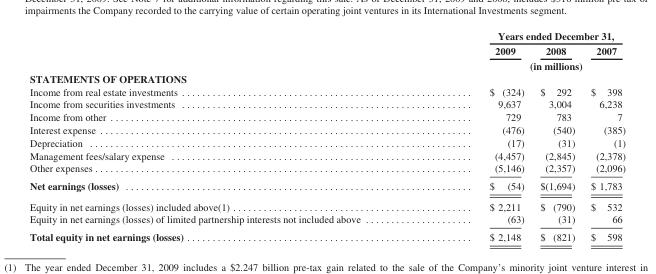table: (29, 29, 625, 242)
table column: (29, 29, 424, 242), (424, 29, 531, 242), (531, 29, 582, 242), (582, 29, 625, 242)
table column header: (29, 29, 625, 71)
table projected row header: (29, 71, 625, 84)
table row: (29, 176, 625, 195), (29, 195, 625, 212), (29, 42, 625, 57), (29, 161, 625, 176), (29, 212, 625, 227), (29, 227, 625, 242), (29, 57, 625, 71), (29, 29, 625, 42), (29, 71, 625, 84), (29, 84, 625, 97), (29, 97, 625, 110), (29, 110, 625, 123), (29, 135, 625, 148), (29, 148, 625, 161), (29, 123, 625, 135)
table spanning cell: (424, 57, 625, 71), (424, 29, 625, 42)
